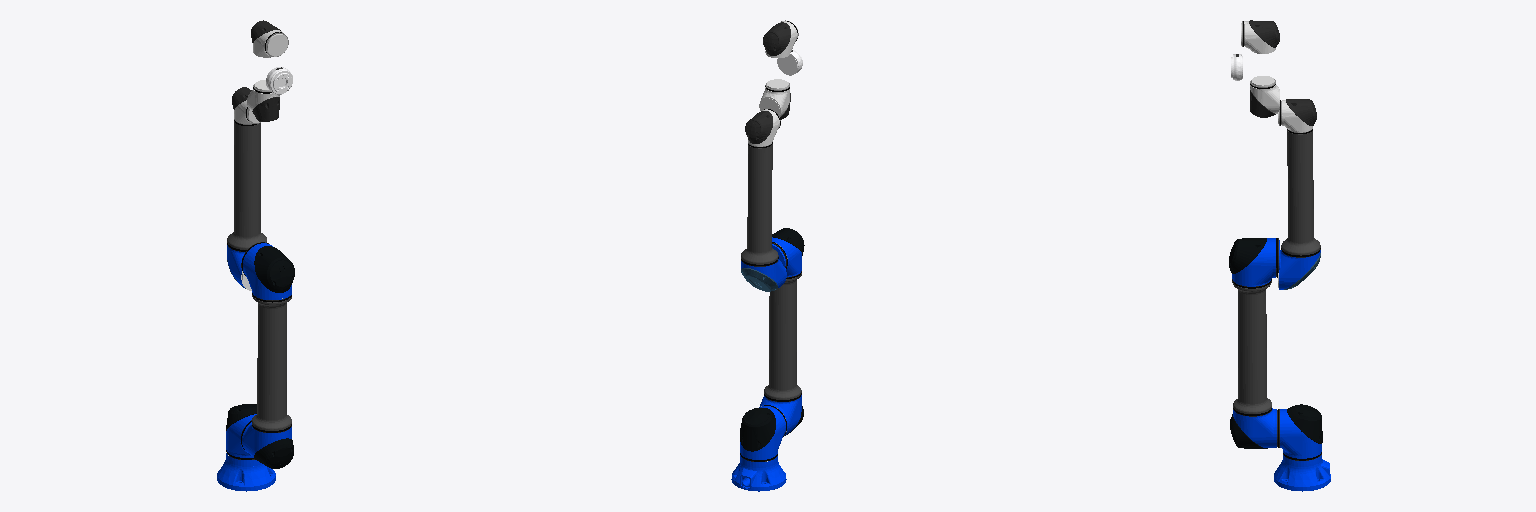
The robot description file, URDF, robot "rb3_1200e":
<?xml version="1.0" ?>
<!-- =================================================================================== -->
<!-- |    This document was autogenerated by xacro from rb3_1200e_u.urdf.xacro         | -->
<!-- |    EDITING THIS FILE BY HAND IS NOT RECOMMENDED                                 | -->
<!-- =================================================================================== -->
<robot name="rb3_1200e">
  <link name="link0">
    <visual>
      <geometry>
        <mesh filename="package://rbpodo_description/meshes/rb3_1200e/visual/link0.dae"/>
      </geometry>
    </visual>
    <collision>
      <geometry>
        <mesh filename="package://rbpodo_description/meshes/rb3_1200e/collision/link0.stl"/>
      </geometry>
    </collision>
  </link>
  <link name="link1">
    <visual>
      <geometry>
        <mesh filename="package://rbpodo_description/meshes/rb3_1200e/visual/link1.dae"/>
      </geometry>
    </visual>
    <collision>
      <geometry>
        <mesh filename="package://rbpodo_description/meshes/rb3_1200e/collision/link1.stl"/>
      </geometry>
    </collision>
    <inertial>
      <origin rpy="0 0 0" xyz="0.000057 -0.005795 -0.034516"/>
      <mass value="4.147"/>
      <inertia ixx="0.008787118" ixy="-8.564e-06" ixz="-8.047e-06" iyy="0.008888636" iyz="0.000893025" izz="0.007845924"/>
    </inertial>
  </link>
  <link name="link2">
    <visual>
      <geometry>
        <mesh filename="package://rbpodo_description/meshes/rb3_1200e/visual/link2.dae"/>
      </geometry>
    </visual>
    <collision>
      <geometry>
        <mesh filename="package://rbpodo_description/meshes/rb3_1200e/collision/link2.stl"/>
      </geometry>
    </collision>
    <inertial>
      <origin rpy="0 0 0" xyz="-0.000036 -0.122555 0.284513"/>
      <mass value="9.923"/>
      <inertia ixx="0.704196245" ixy="-1.4348e-05" ixz="-7.2841e-05" iyy="0.700668439" iyz="0.000236246" izz="0.02269287"/>
    </inertial>
  </link>
  <link name="link3">
    <visual>
      <geometry>
        <mesh filename="package://rbpodo_description/meshes/rb3_1200e/visual/link3.dae"/>
      </geometry>
    </visual>
    <collision>
      <geometry>
        <mesh filename="package://rbpodo_description/meshes/rb3_1200e/collision/link3.stl"/>
      </geometry>
    </collision>
    <inertial>
      <origin rpy="0 0 0" xyz="0.000018 -0.014837 0.265923"/>
      <mass value="4.156"/>
      <inertia ixx="0.209511383" ixy="-1.346e-06" ixz="2.1224e-05" iyy="0.209211843" iyz="0.002967793" izz="0.007960204"/>
    </inertial>
  </link>
  <link name="link4">
    <visual>
      <geometry>
        <mesh filename="package://rbpodo_description/meshes/rb3_1200e/visual/link4.dae"/>
      </geometry>
    </visual>
    <collision>
      <geometry>
        <mesh filename="package://rbpodo_description/meshes/rb3_1200e/collision/link4.stl"/>
      </geometry>
    </collision>
    <inertial>
      <origin rpy="0 0 0" xyz="0.000057 -0.106332 0.025881"/>
      <mass value="1.452"/>
      <inertia ixx="0.001629031" ixy="3.99e-07" ixz="2.37e-07" iyy="0.001558024" iyz="0.000127282" izz="0.001224887"/>
    </inertial>
  </link>
  <link name="link5">
    <visual>
      <geometry>
        <mesh filename="package://rbpodo_description/meshes/rb3_1200e/visual/link5.dae"/>
      </geometry>
    </visual>
    <collision>
      <geometry>
        <mesh filename="package://rbpodo_description/meshes/rb3_1200e/collision/link5.stl"/>
      </geometry>
    </collision>
    <inertial>
      <origin rpy="0 0 0" xyz="-0.000028 -0.025911 -0.004363"/>
      <mass value="1.454"/>
      <inertia ixx="0.001631445" ixy="1.764e-06" ixz="2.2e-07" iyy="0.001226962" iyz="0.000127473" izz="0.001560416"/>
    </inertial>
  </link>
  <link name="link6">
    <visual>
      <geometry>
        <mesh filename="package://rbpodo_description/meshes/rb3_1200e/visual/link6.dae"/>
      </geometry>
    </visual>
    <collision>
      <geometry>
        <mesh filename="package://rbpodo_description/meshes/rb3_1200e/collision/link6.stl"/>
      </geometry>
    </collision>
    <inertial>
      <origin rpy="0 0 0" xyz="-0.000002 -0.079964 -0.000494"/>
      <mass value="0.243"/>
      <inertia ixx="0.000147823" ixy="2.46e-07" ixz="6.43e-07" iyy="0.000243703" iyz="-5.54e-07" izz="0.000142339"/>
    </inertial>
  </link>
  <link name="tcp"/>
  <joint name="base" type="revolute">
    <origin rpy="0 0 0" xyz="0 0 0.1692"/>
    <parent link="link0"/>
    <child link="link1"/>
    <axis xyz="0 0 1"/>
    <limit effort="10" lower="-3.14" upper="3.14" velocity="3.14"/>
  </joint>
  <joint name="shoulder" type="revolute">
    <origin rpy="0 0 0" xyz="0 0 0"/>
    <parent link="link1"/>
    <child link="link2"/>
    <axis xyz="0 1 0"/>
    <limit effort="10" lower="-3.14" upper="3.14" velocity="3.14"/>
  </joint>
  <joint name="elbow" type="revolute">
    <origin rpy="0 0 0" xyz="0 0 0.5669"/>
    <parent link="link2"/>
    <child link="link3"/>
    <axis xyz="0 1 0"/>
    <limit effort="10" lower="-3.14" upper="3.14" velocity="3.14"/>
  </joint>
  <joint name="wrist1" type="revolute">
    <origin rpy="0 0 0" xyz="0 0 0.5224"/>
    <parent link="link3"/>
    <child link="link4"/>
    <axis xyz="0 1 0"/>
    <limit effort="10" lower="-3.14" upper="3.14" velocity="3.14"/>
  </joint>
  <joint name="wrist2" type="revolute">
    <origin rpy="0 0 0" xyz="0 -0.1107 0.1107"/>
    <parent link="link4"/>
    <child link="link5"/>
    <axis xyz="0 0 1"/>
    <limit effort="10" lower="-3.14" upper="3.14" velocity="3.14"/>
  </joint>
  <joint name="wrist3" type="revolute">
    <origin rpy="0 0 0" xyz="0 0 0"/>
    <parent link="link5"/>
    <child link="link6"/>
    <axis xyz="0 1 0"/>
    <limit effort="10" lower="-3.14" upper="3.14" velocity="3.14"/>
  </joint>
  <joint name="tcp_joint" type="fixed">
    <origin rpy="0 0 0" xyz="0 -0.0967 0"/>
    <parent link="link6"/>
    <child link="tcp"/>
  </joint>
  <ros2_control name="RBPodoHardwareInterface" type="system">
    <hardware>
      <plugin>rbpodo_hardware/RBPodoHardwareInterface</plugin>
      <param name="cb_simulation">True</param>
      <param name="robot_ip">10.0.2.7</param>
    </hardware>
    <joint name="base">
      <param name="initial_position">0.0</param>
      <param name="torque_constant">1</param>
      <command_interface name="effort"/>
      <command_interface name="velocity"/>
      <command_interface name="position"/>
      <state_interface name="position"/>
      <state_interface name="effort"/>
    </joint>
    <joint name="shoulder">
      <param name="initial_position">0.0</param>
      <param name="torque_constant">1</param>
      <command_interface name="effort"/>
      <command_interface name="velocity"/>
      <command_interface name="position"/>
      <state_interface name="position"/>
      <state_interface name="effort"/>
    </joint>
    <joint name="elbow">
      <param name="initial_position">0.0</param>
      <param name="torque_constant">1</param>
      <command_interface name="effort"/>
      <command_interface name="velocity"/>
      <command_interface name="position"/>
      <state_interface name="position"/>
      <state_interface name="effort"/>
    </joint>
    <joint name="wrist1">
      <param name="initial_position">0.0</param>
      <param name="torque_constant">1</param>
      <command_interface name="effort"/>
      <command_interface name="velocity"/>
      <command_interface name="position"/>
      <state_interface name="position"/>
      <state_interface name="effort"/>
    </joint>
    <joint name="wrist2">
      <param name="initial_position">0.0</param>
      <param name="torque_constant">1</param>
      <command_interface name="effort"/>
      <command_interface name="velocity"/>
      <command_interface name="position"/>
      <state_interface name="position"/>
      <state_interface name="effort"/>
    </joint>
    <joint name="wrist3">
      <param name="initial_position">0.0</param>
      <param name="torque_constant">1</param>
      <command_interface name="effort"/>
      <command_interface name="velocity"/>
      <command_interface name="position"/>
      <state_interface name="position"/>
      <state_interface name="effort"/>
    </joint>
  </ros2_control>
</robot>

--- Facts derived from the render (not from the file) ---
3 views of the same robot in one strip: view 1: azimuth 30°, elevation 25°; view 2: azimuth 150°, elevation 25°; view 3: azimuth 270°, elevation 25° (orthographic).
Model rb3_1200e with 8 links and 7 joints (6 revolute, 1 fixed), rooted at link0, posed every joint at zero.
Links seen in each view (by area): view 1: link2, link3, link0, link1, link5, link4, link6; view 2: link2, link3, link1, link0, link5, link4; view 3: link2, link3, link1, link0, link5, link4.
Link boxes in pixels (left/top/right/bottom): link2: left=241, top=242, right=294, bottom=468; link3: left=227, top=87, right=266, bottom=290; link0: left=217, top=452, right=275, bottom=491; link1: left=226, top=404, right=256, bottom=459; link5: left=251, top=20, right=288, bottom=57; link4: left=247, top=80, right=279, bottom=121; link6: left=266, top=67, right=292, bottom=95; link2: left=759, top=228, right=804, bottom=436; link3: left=741, top=109, right=786, bottom=291; link1: left=740, top=406, right=785, bottom=461; link0: left=731, top=455, right=786, bottom=491; link5: left=763, top=20, right=798, bottom=57; link4: left=759, top=79, right=790, bottom=119; link2: left=1229, top=238, right=1279, bottom=448; link3: left=1278, top=99, right=1320, bottom=289; link1: left=1280, top=404, right=1322, bottom=460; link0: left=1274, top=455, right=1330, bottom=491; link5: left=1241, top=20, right=1279, bottom=53; link4: left=1250, top=76, right=1279, bottom=117.
Bounding box of the posed robot: 0.1728 × 0.309 × 1.52 m (x, y, z).
Meshes: 7 distinct files referenced, 7 mesh visuals loaded (7 Collada DAE).
